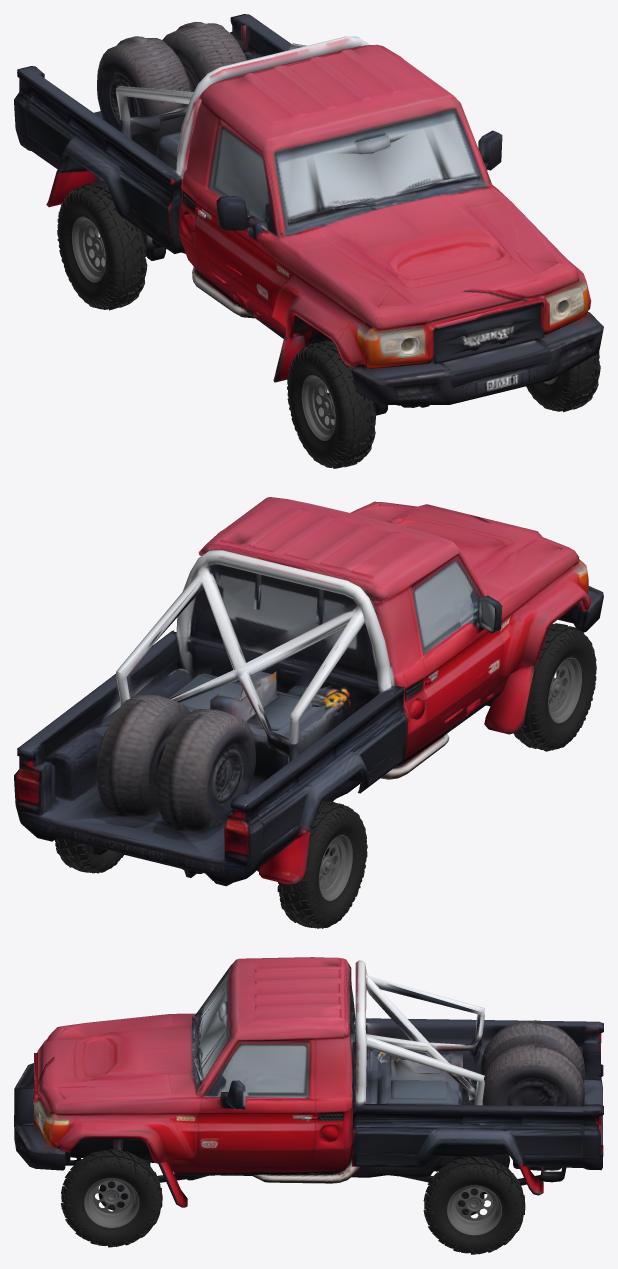
The model's file is toyota-24.glb.
The picture shows the model from 3 angles, top to bottom: view 1: azimuth 30°, elevation 25°; view 2: azimuth 150°, elevation 25°; view 3: azimuth 270°, elevation 25°; orthographic projection. The views are drawn at different scales.
Parts seen in each view (by area): view 1: chassis, Wheel_BR, WheeL_FR, Wheel_FL; view 2: chassis, Wheel_BR, WheeL_FR, Wheel_BL; view 3: chassis, Wheel_BL, Wheel_FL.
Boxes of the visible parts, x1,y1,x2,y2 form: chassis: (14,14,603,419); Wheel_BR: (57,182,147,310); WheeL_FR: (287,340,375,468); Wheel_FL: (526,351,600,412); chassis: (14,497,603,886); Wheel_BR: (277,801,367,928); WheeL_FR: (513,623,596,751); Wheel_BL: (55,838,123,873); chassis: (14,957,603,1215); Wheel_BL: (423,1156,525,1254); Wheel_FL: (61,1149,162,1247).
Size of the model in its own units: 2.24 by 2.1 by 5.07.
Materials: 5 (1 with a texture image).
